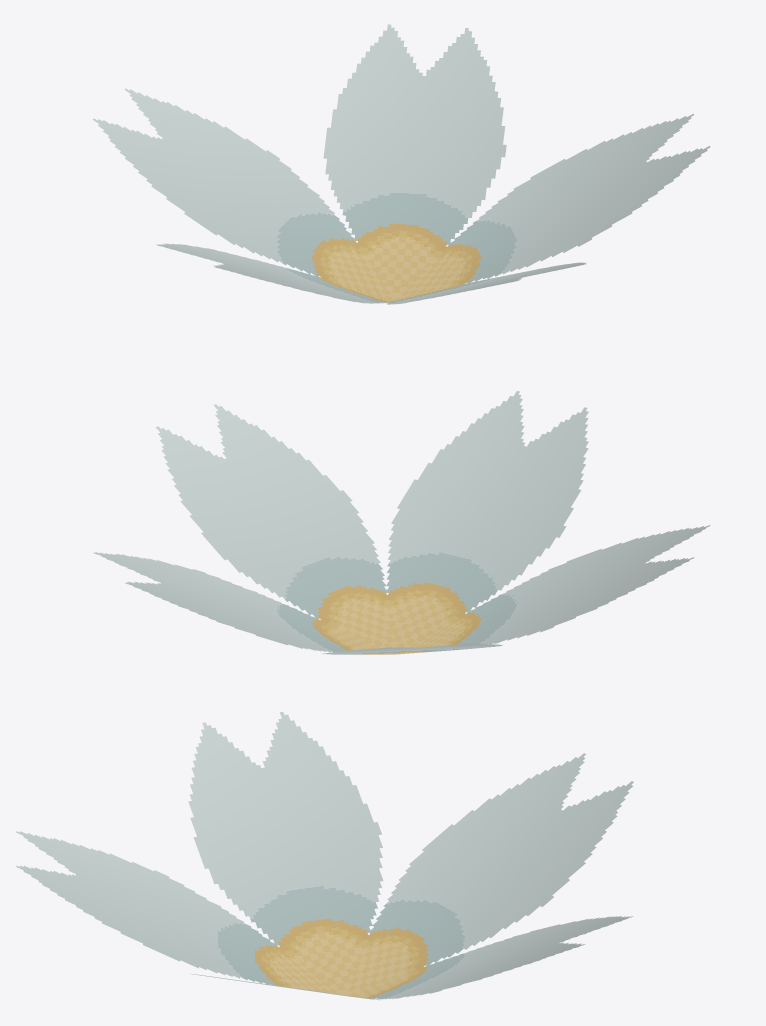
Rendered from 02fe_White_Flower.glb.
The picture shows the model from 3 angles, top to bottom: view 1: azimuth 30°, elevation 25°; view 2: azimuth 150°, elevation 25°; view 3: azimuth 270°, elevation 25°; orthographic projection. The views are drawn at different scales.
Parts seen in each view (by area): view 1: part_0; view 2: part_0; view 3: part_0.
Boxes of the visible parts, x1=… form: part_0: x1=93, y1=24, x2=710, y2=304; part_0: x1=93, y1=391, x2=710, y2=654; part_0: x1=16, y1=712, x2=633, y2=1000.
Bounding box in the file's own units: 0.0761 × 0.016 × 0.0724.
Materials: 1 (1 with a texture image).
